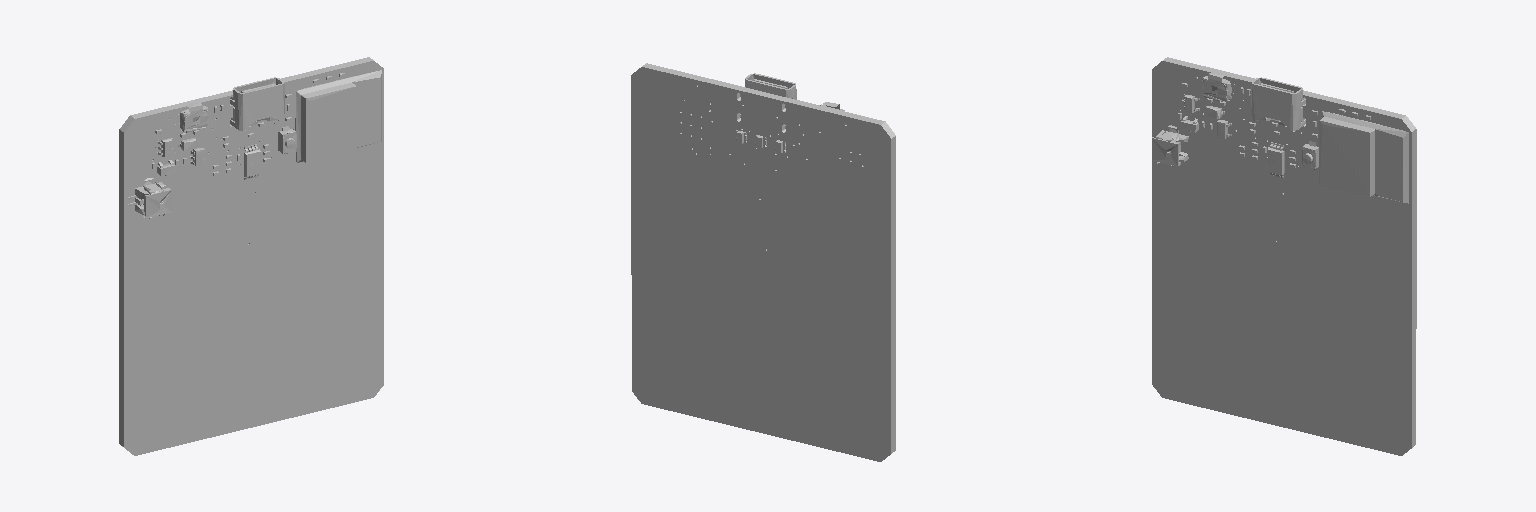
Rendered from REAM_PCB_2.obj.
3 views of the same model, side by side, from view 1: azimuth 30°, elevation 25°; view 2: azimuth 150°, elevation 25°; view 3: azimuth 330°, elevation 25° (orthographic).
Size of the model in its own units: 49.98 by 63.35 by 6.03.